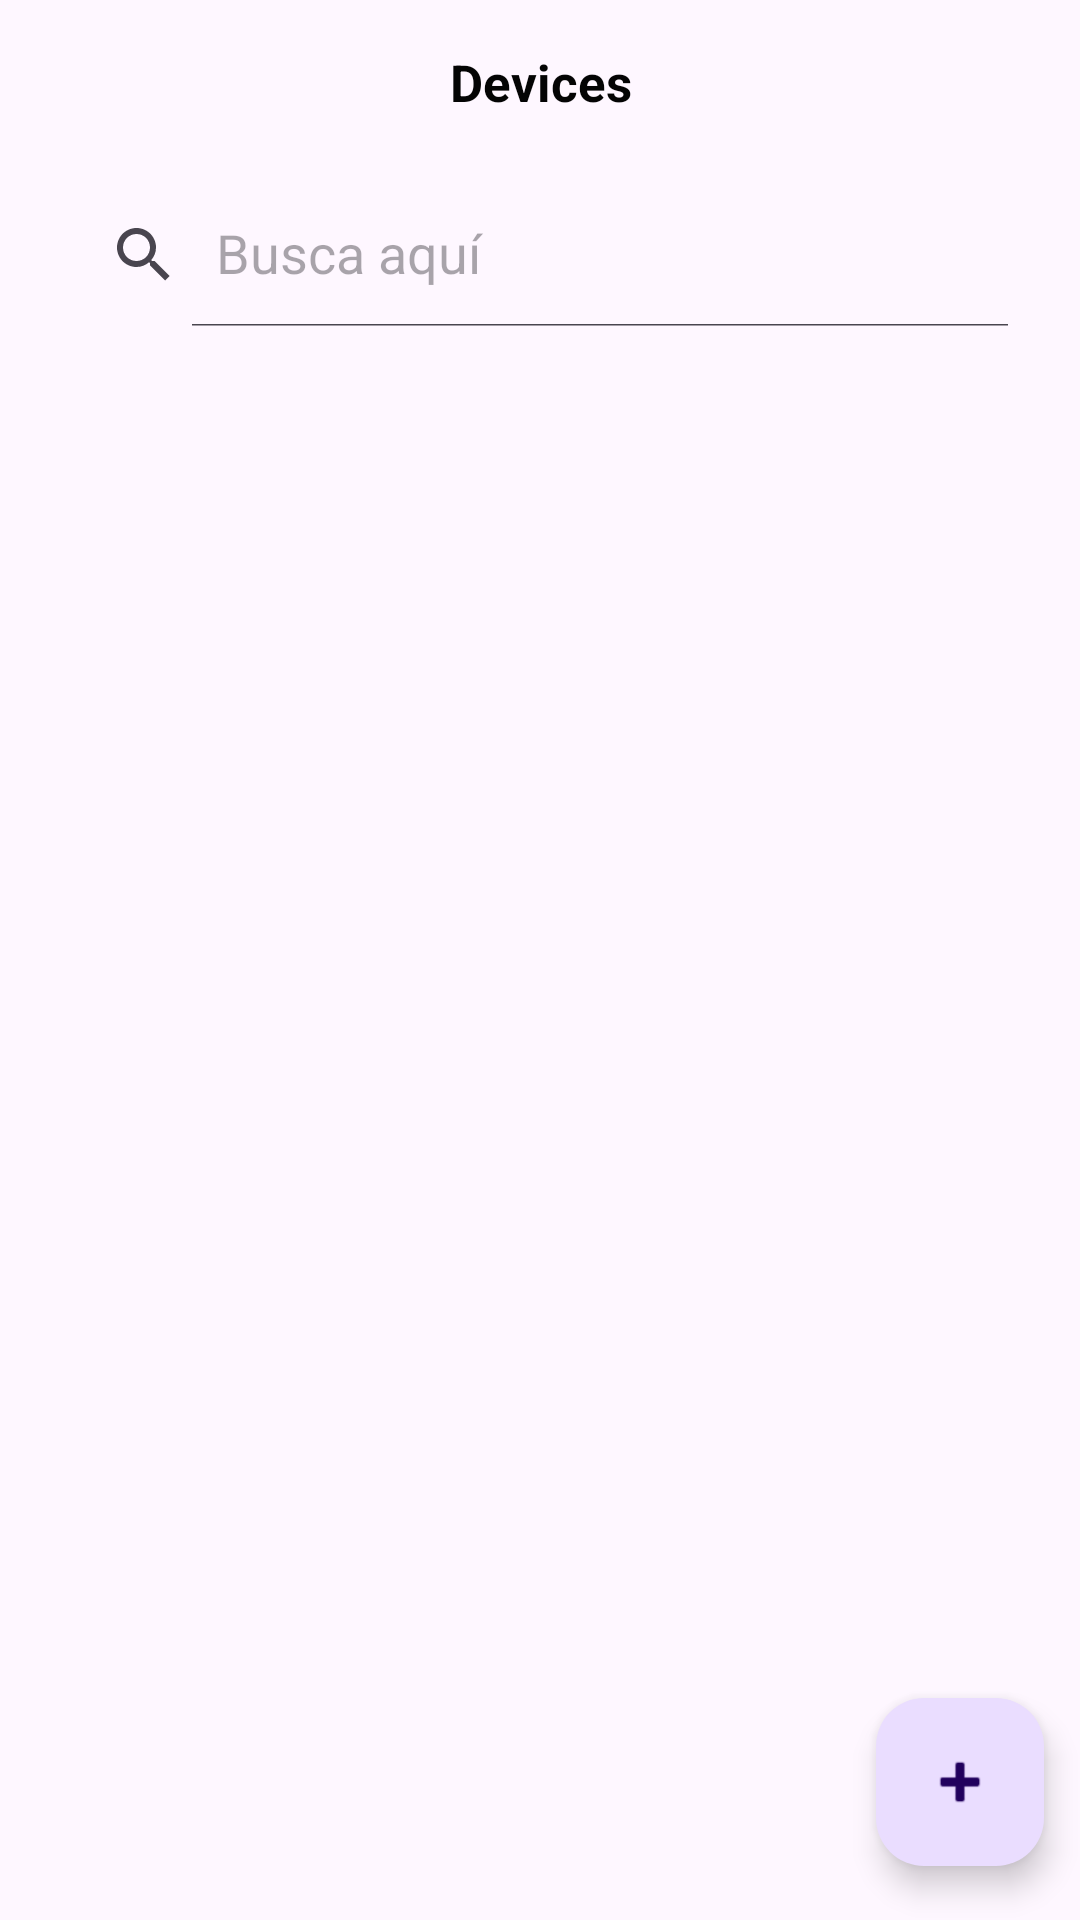

Point at icon controls on the screen. Image size 1080w x 1920h, points as [x,y].
add: [961,1791]
